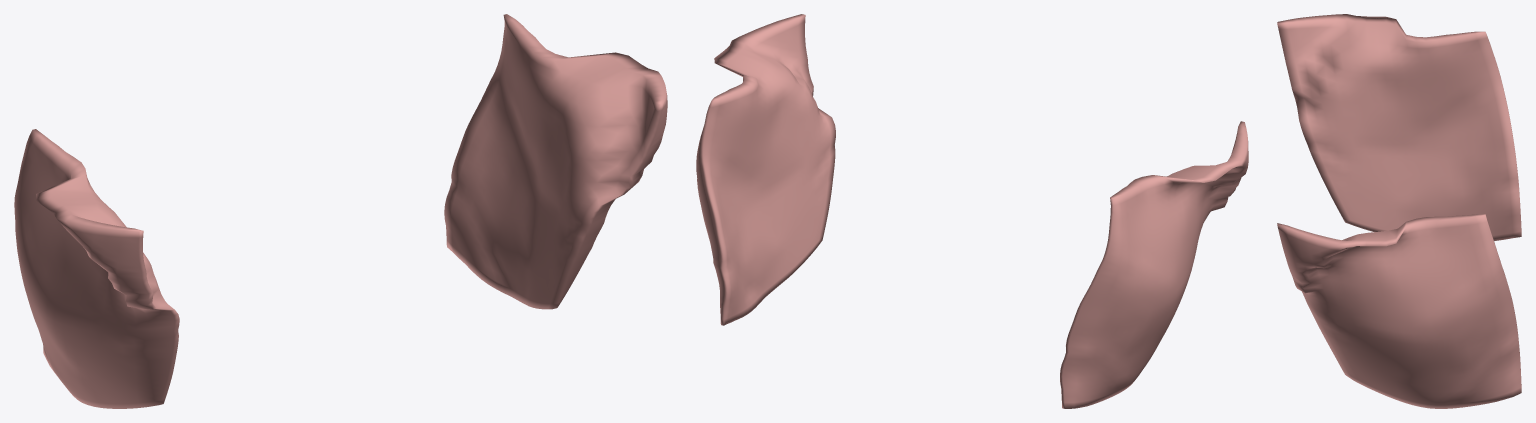
File: masseter_lod1.glb
3 renders of one model, left to right at view 1: azimuth 30°, elevation 25°; view 2: azimuth 150°, elevation 25°; view 3: azimuth 270°, elevation 25°, orthographic. The views are drawn at different scales.
Parts seen in each view (by area): view 1: masseter_L_lod1, masseter_R_lod1; view 2: masseter_L_lod1, masseter_R_lod1; view 3: masseter_R_lod1, masseter_L_lod1.
Part boxes in pixels (x1=…): masseter_L_lod1: x1=444, y1=14, x2=667, y2=309; masseter_R_lod1: x1=14, y1=129, x2=179, y2=408; masseter_L_lod1: x1=696, y1=14, x2=835, y2=325; masseter_R_lod1: x1=1060, y1=121, x2=1248, y2=408; masseter_R_lod1: x1=1277, y1=14, x2=1521, y2=240; masseter_L_lod1: x1=1277, y1=214, x2=1521, y2=408.
Bounding box in the file's own units: 0.1217 × 0.0487 × 0.054.
